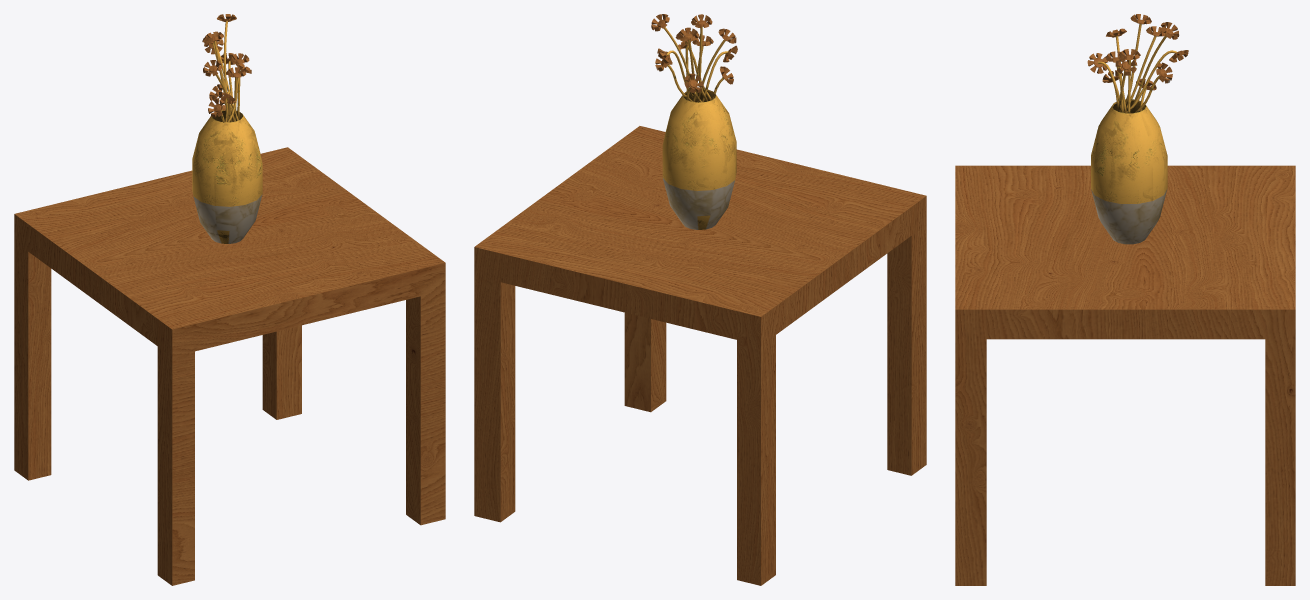
Rendered from ASM - PBR Metallic Roughness.gltf.
The picture shows the model from 3 angles, left to right: view 1: azimuth 30°, elevation 25°; view 2: azimuth 150°, elevation 25°; view 3: azimuth 270°, elevation 25°; orthographic projection. The views are drawn at different scales.
Visible parts, largest first — view 1: Box001; view 2: Box001; view 3: Box001.
Boxes of the visible parts, x1,y1,x2,y2 form: Box001: [14, 14, 445, 585]; Box001: [474, 14, 926, 585]; Box001: [955, 14, 1295, 585].
Size of the model in its own units: 0.5 by 0.8093 by 0.5.
Materials: 1 (1 with a texture image).
